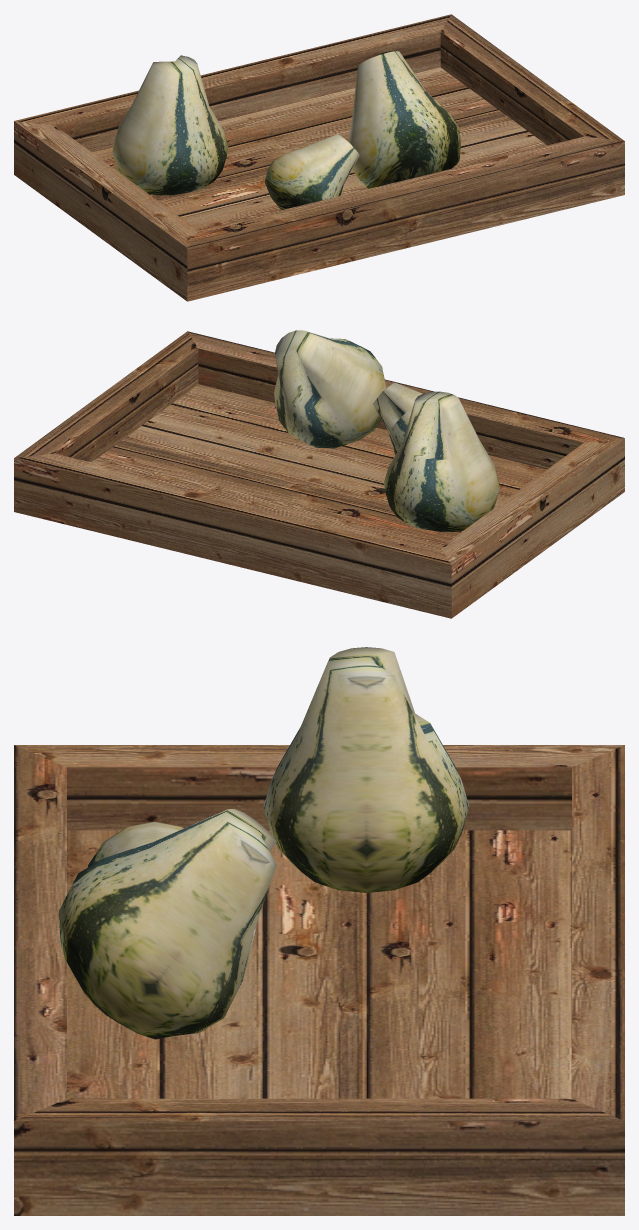
The model's file is fruit_veg3.dae.
The picture shows the model from 3 angles, top to bottom: view 1: azimuth 30°, elevation 25°; view 2: azimuth 150°, elevation 25°; view 3: azimuth 270°, elevation 25°; orthographic projection. The views are drawn at different scales.
Visible parts, largest first — view 1: meshU3D; view 2: meshU3D; view 3: meshU3D.
Boxes of the visible parts, <box> form: meshU3D: <box>14,14,624,301</box>; meshU3D: <box>14,330,624,618</box>; meshU3D: <box>14,647,624,1215</box>.
Bounding box in the file's own units: 30.01 × 9.55 × 20.6.
